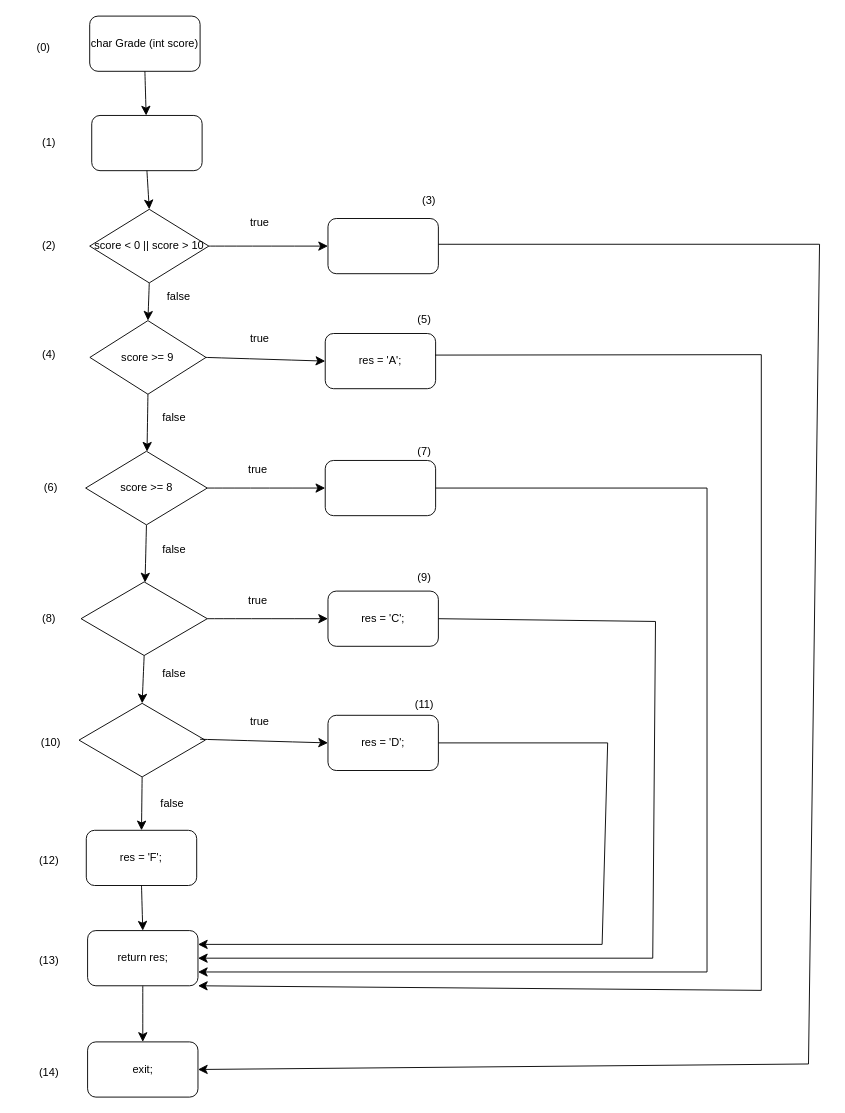
Some shapes in this 845 by 1113 pixel diagram are drawn without their labels. The box of each missing label's shape, as (x1, y1, x2, y2) in pixels:
int res: (91, 115, 202, 171)
res = 'B';: (324, 460, 436, 516)
return 'I';: (327, 218, 438, 274)
score >= 5: (78, 702, 205, 777)
score >= 6.5: (80, 581, 207, 656)
